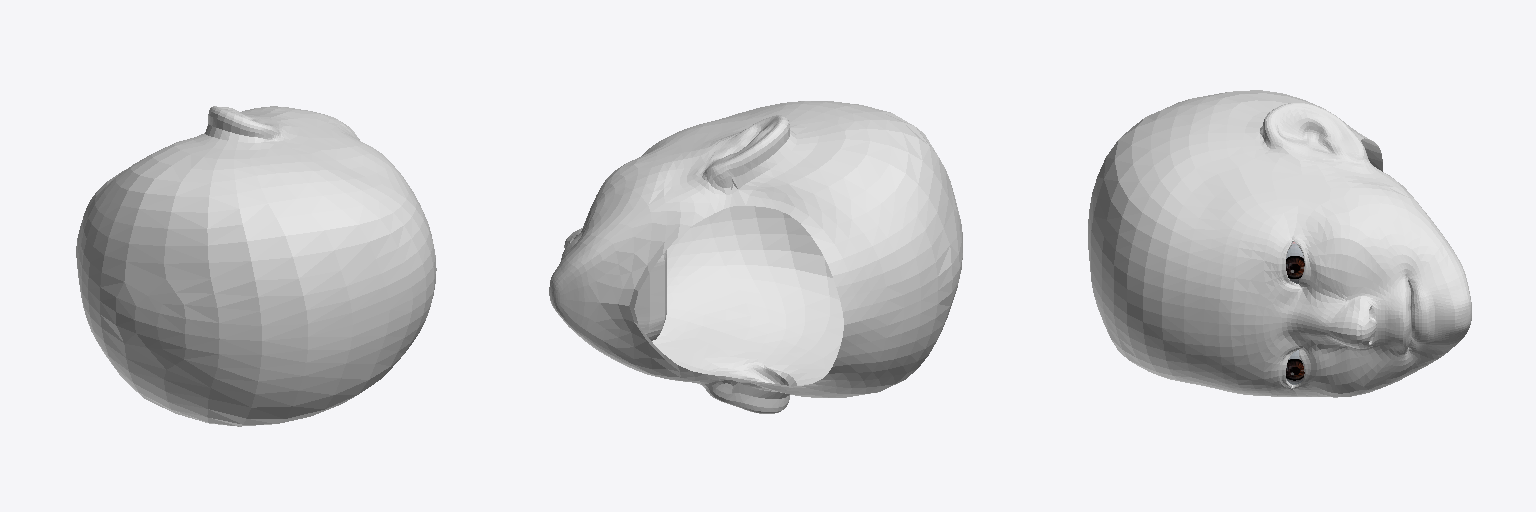
3 views of the same model, side by side, from view 1: azimuth 30°, elevation 25°; view 2: azimuth 150°, elevation 25°; view 3: azimuth 270°, elevation 25° (orthographic).
Parts seen in each view (by area): view 1: NECK_P-140; view 2: NECK_P-140; view 3: NECK_P-140, EYE_L-142-FACES.
Boxes of the visible parts, box(x1,y1,x2,y2) form: NECK_P-140: box(76, 106, 436, 426); NECK_P-140: box(549, 101, 962, 413); NECK_P-140: box(1088, 90, 1471, 397); EYE_L-142-FACES: box(1286, 242, 1304, 283).
Size of the model in its own units: 0.2098 by 0.176 by 0.2139.
3 materials, 1 textured.